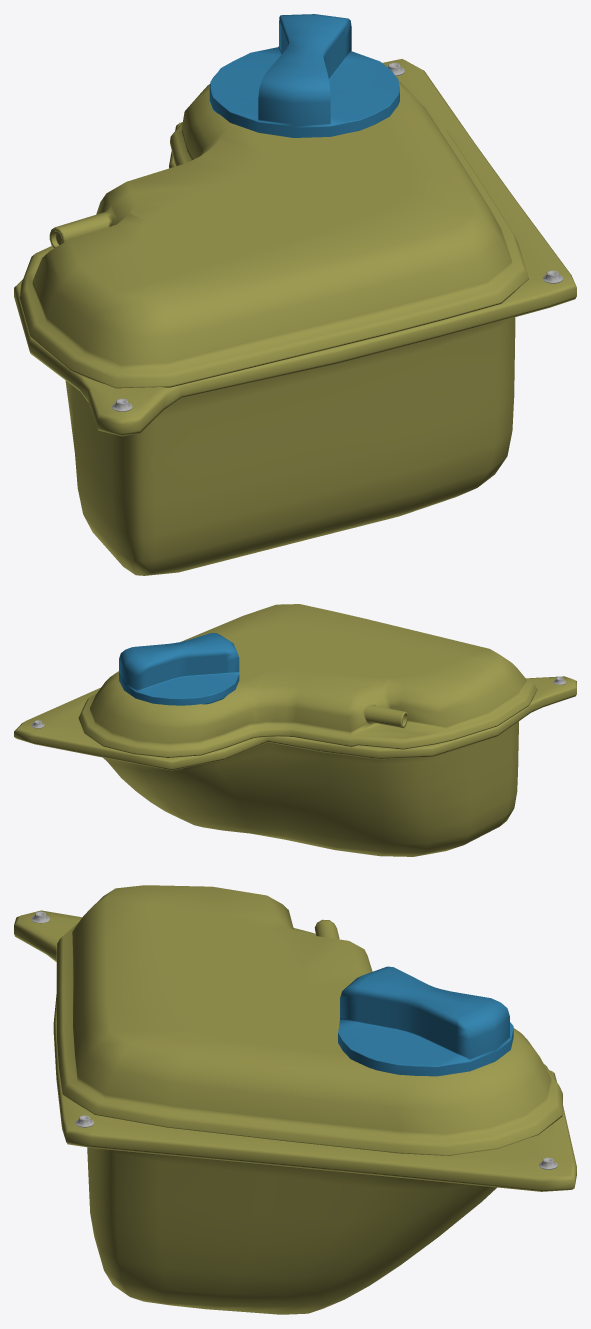
File: LengDongYeHe.fbx
3 renders of one model, top to bottom at view 1: azimuth 30°, elevation 25°; view 2: azimuth 150°, elevation 25°; view 3: azimuth 270°, elevation 25°, orthographic. The views are drawn at different scales.
Parts seen in each view (by area): view 1: lengdongyeHe; view 2: lengdongyeHe; view 3: lengdongyeHe.
Boxes of the visible parts, x1=… form: lengdongyeHe: x1=14, y1=14, x2=576, y2=575; lengdongyeHe: x1=14, y1=604, x2=576, y2=856; lengdongyeHe: x1=14, y1=885, x2=576, y2=1314.
Size of the model in its own units: 24.78 by 13.2 by 21.85.
